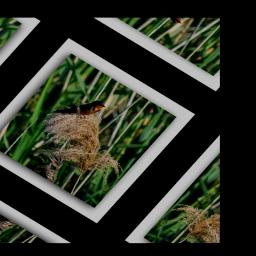Swallow: (48, 83, 110, 133)
